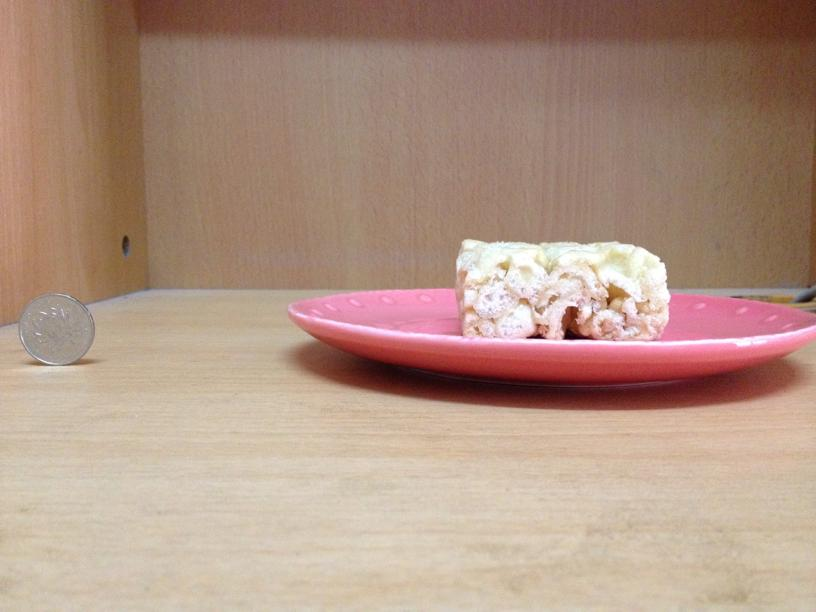coin: (22, 294, 95, 366)
sachima: (457, 240, 669, 342)
